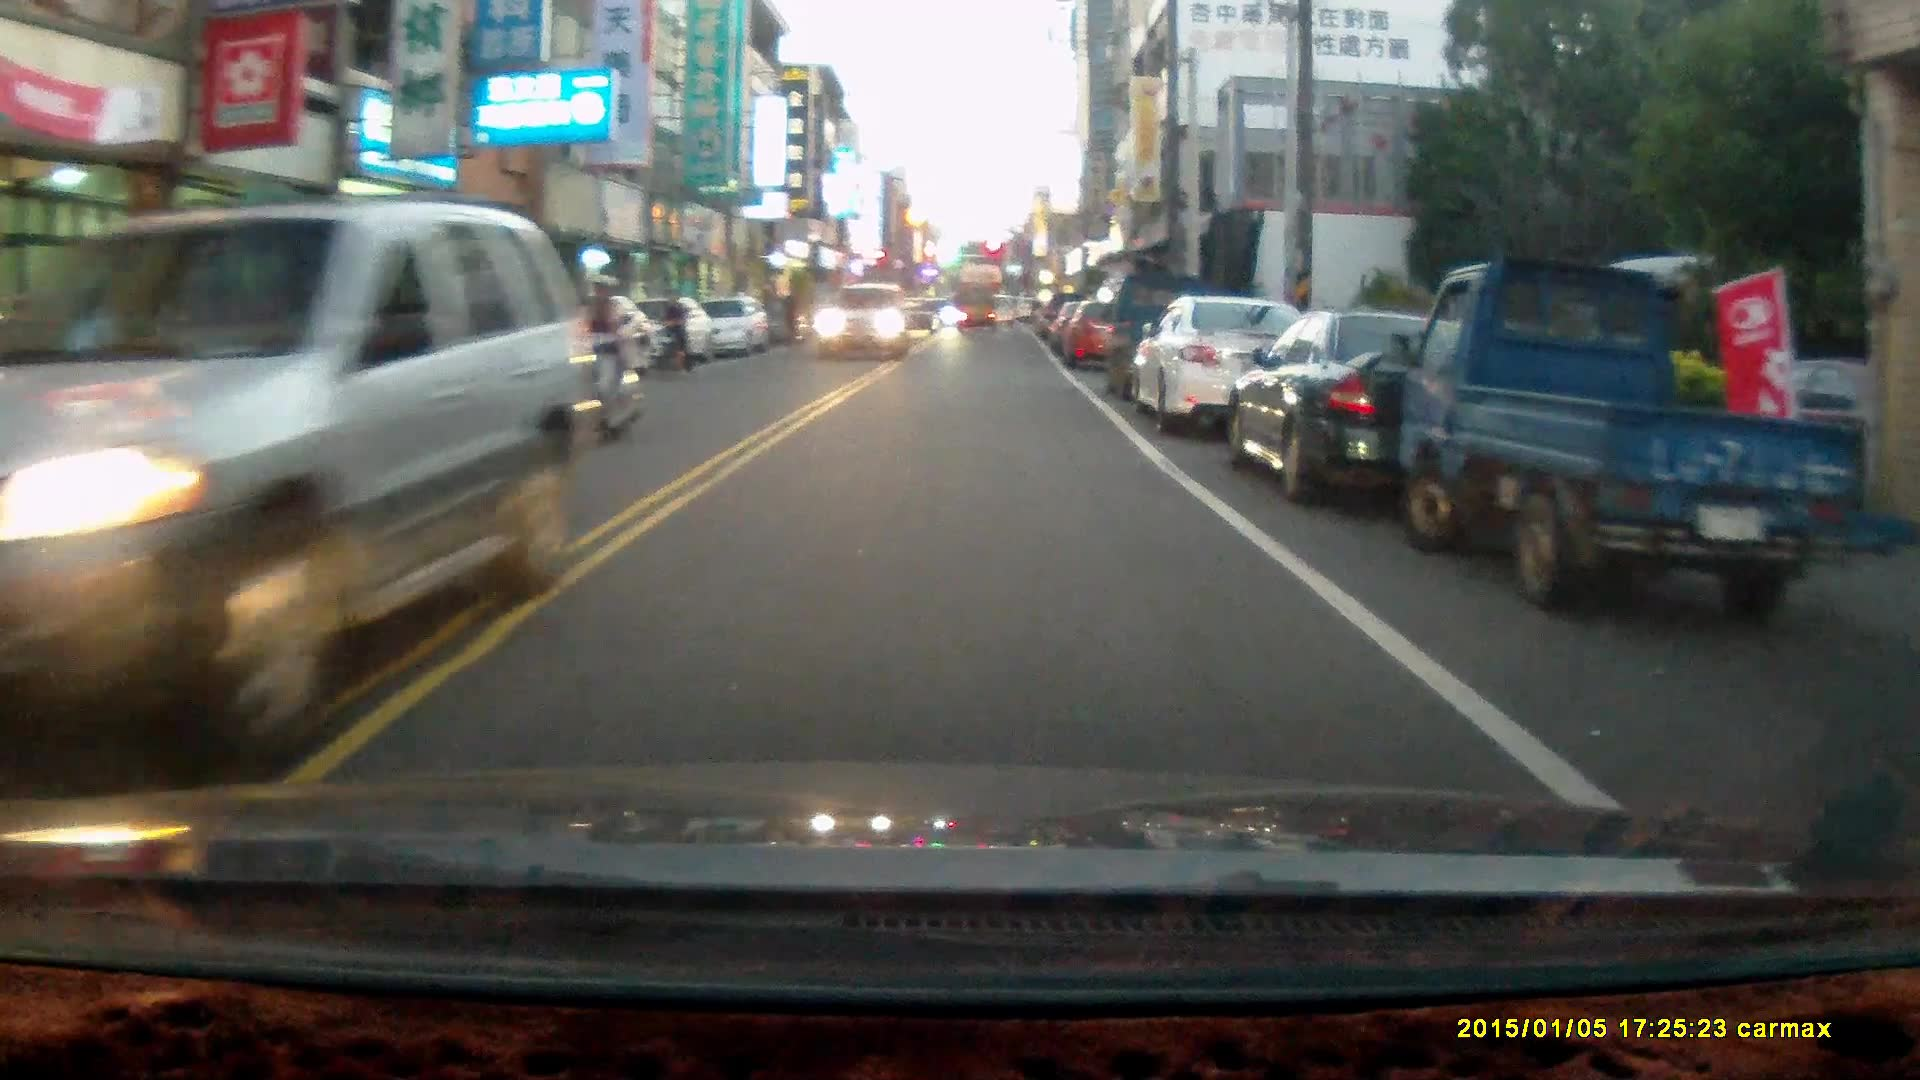pedestrian: (781, 282, 803, 342)
rider: (561, 273, 643, 451), (653, 289, 695, 375)
vehicle: (1, 198, 613, 744), (1398, 255, 1883, 614), (1228, 311, 1596, 517), (1133, 296, 1327, 442), (813, 283, 910, 363), (1064, 299, 1146, 374), (701, 295, 779, 363), (957, 285, 998, 336)
